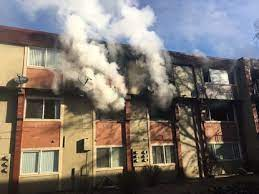smoke: (51, 1, 171, 111)
